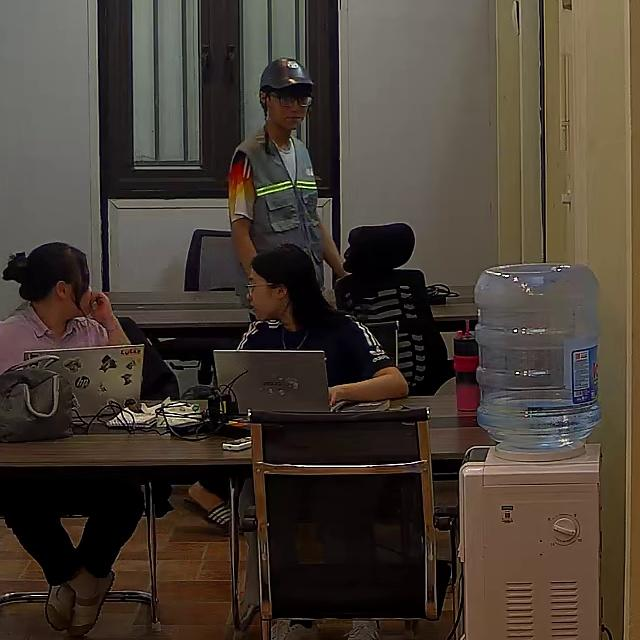helmet: (258, 56, 316, 92)
no_helmet: (251, 242, 343, 329), (4, 242, 90, 304)
none: (234, 310, 395, 391), (0, 305, 109, 392)
vest: (234, 130, 325, 260)
